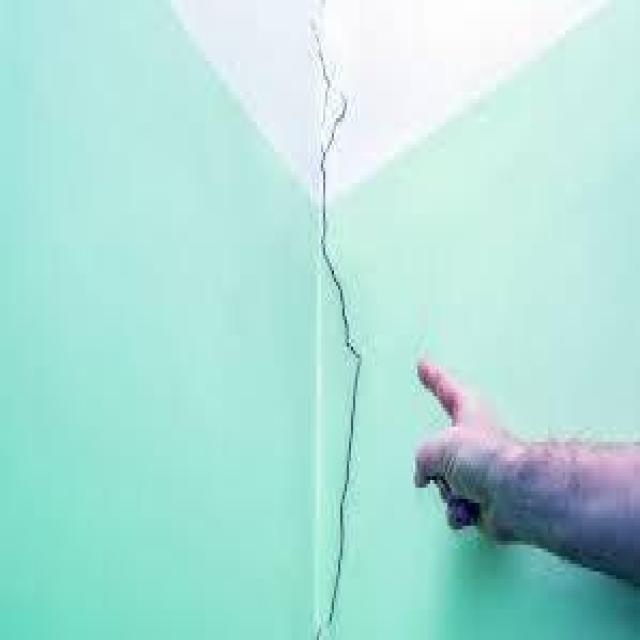Crack: (323, 370, 360, 636), (308, 46, 349, 144), (332, 274, 359, 370), (314, 160, 330, 263)
